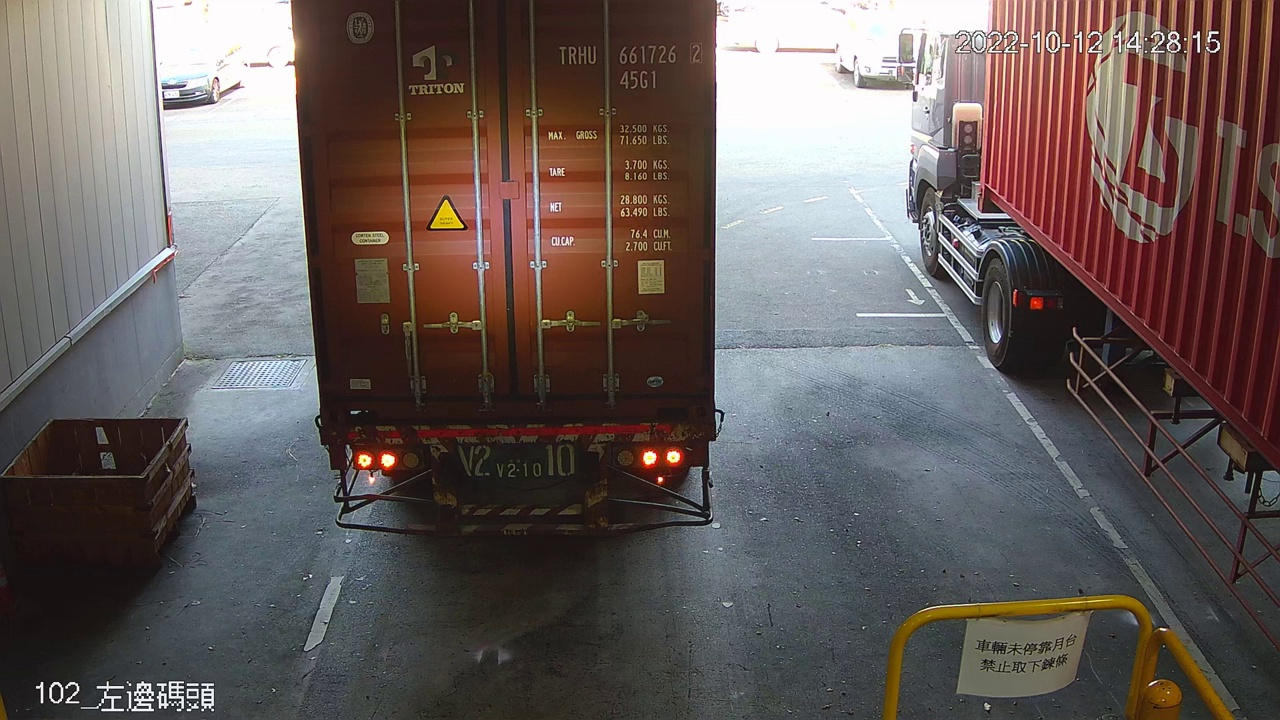container: (550, 37, 707, 94)
